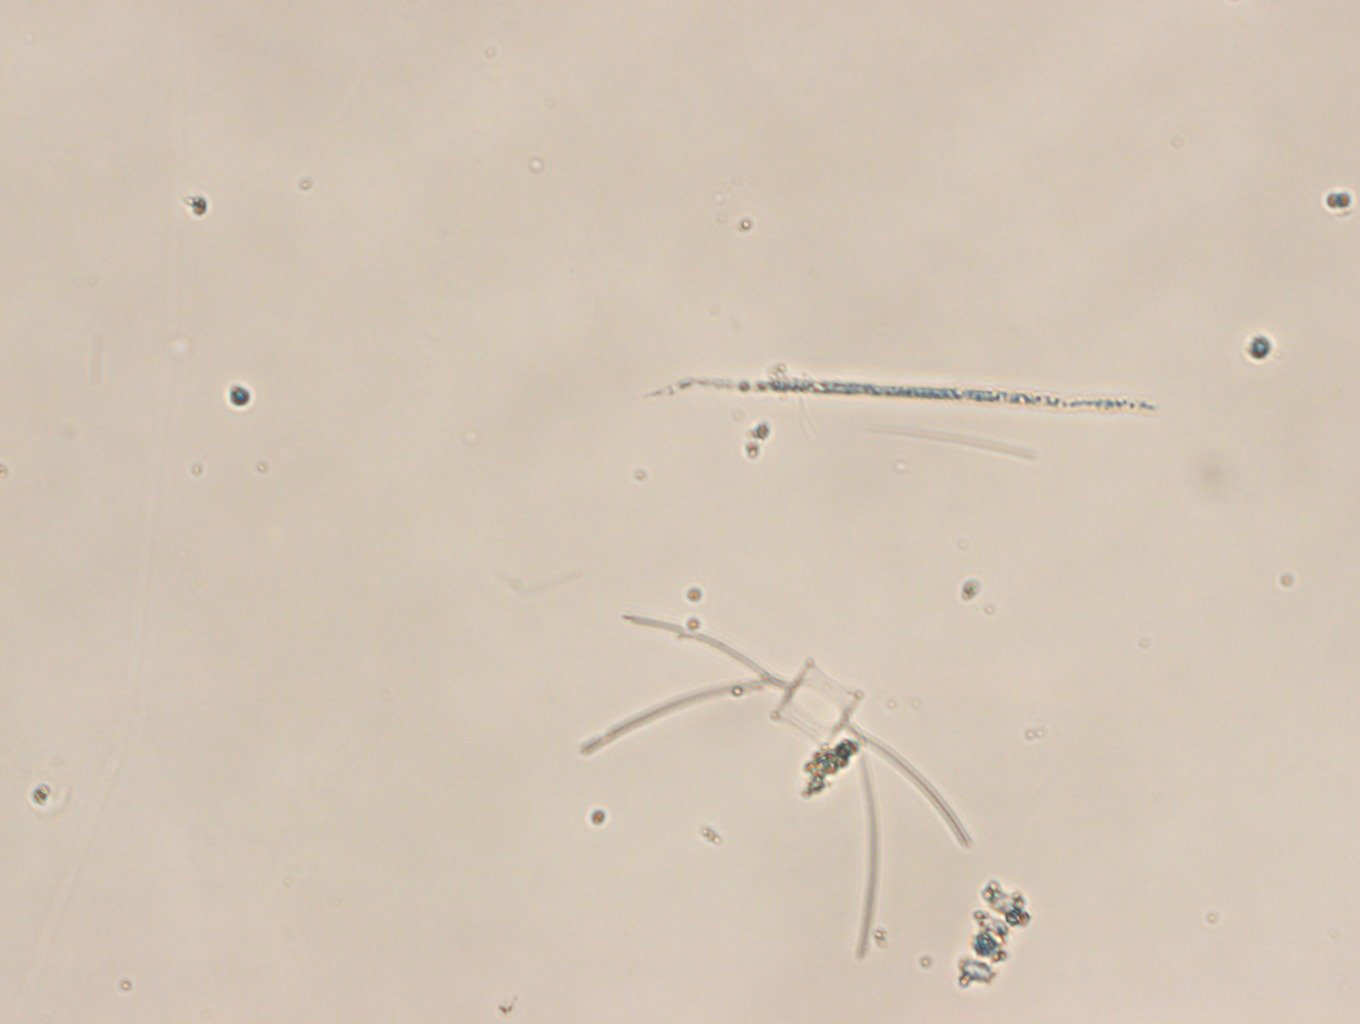chaetoceros: (583, 612, 970, 959)
